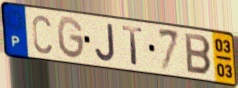7: (158, 26, 181, 74)
B: (184, 31, 214, 77)
C: (31, 13, 54, 56)
G: (56, 15, 86, 61)
J: (93, 22, 117, 63)
T: (120, 24, 145, 67)
